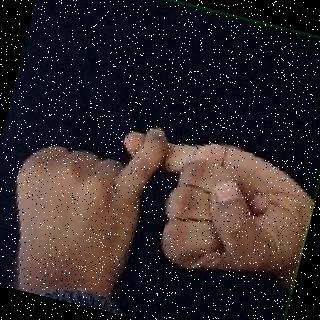S: (0, 95, 306, 312)
